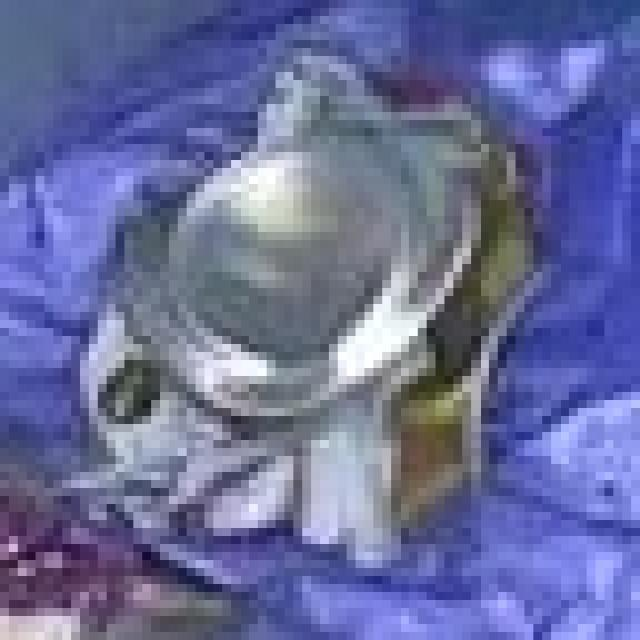litter: (58, 19, 587, 575)
